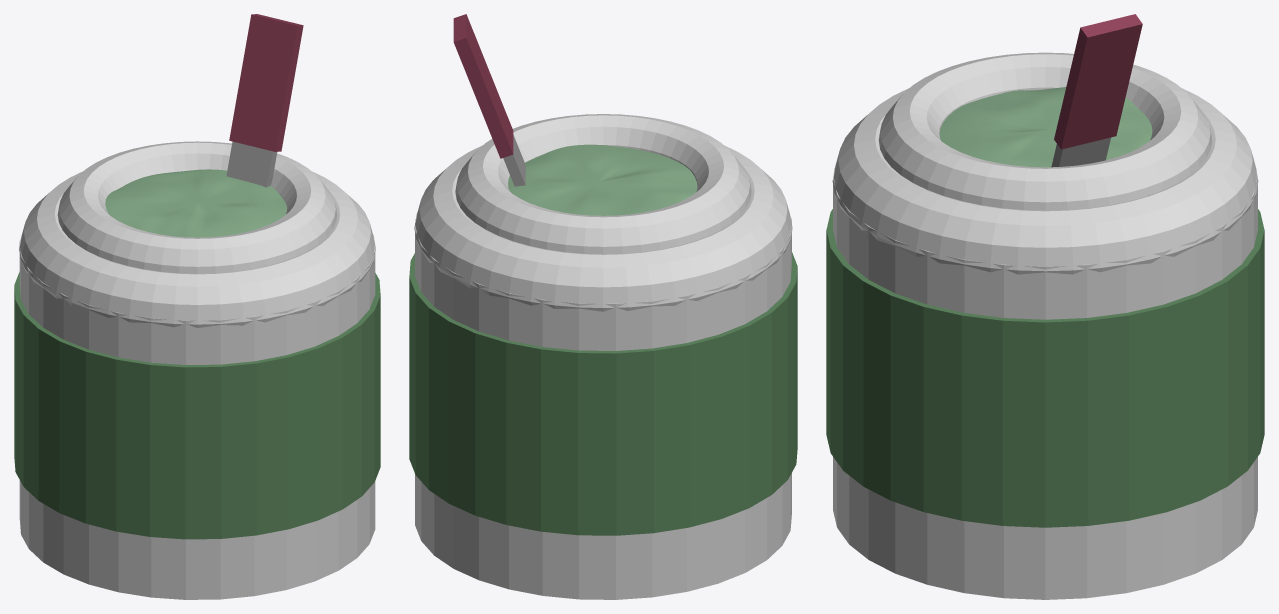
File: kayabottle1.fbx
3 views of the same model, side by side, from view 1: azimuth 30°, elevation 25°; view 2: azimuth 150°, elevation 25°; view 3: azimuth 270°, elevation 25° (orthographic). The views are drawn at different scales.
Parts seen in each view (by area): view 1: Cylinder, Cylinder.001, Sphere.001, Cube.008, Cube.007; view 2: Cylinder, Cylinder.001, Sphere.001, Cube.008, Cube.007; view 3: Cylinder, Cylinder.001, Sphere.001, Cube.008, Cube.007.
Part boxes in pixels (left/top/right/bottom): Cylinder: left=19, top=141, right=375, bottom=599; Cylinder.001: left=14, top=272, right=380, bottom=539; Sphere.001: left=105, top=169, right=287, bottom=237; Cube.008: left=229, top=14, right=303, bottom=151; Cube.007: left=226, top=141, right=277, bottom=187; Cylinder: left=414, top=114, right=792, bottom=599; Cylinder.001: left=409, top=252, right=797, bottom=535; Sphere.001: left=508, top=144, right=697, bottom=215; Cube.008: left=453, top=14, right=513, bottom=158; Cube.007: left=503, top=135, right=525, bottom=186; Cylinder: left=832, top=52, right=1258, bottom=599; Cylinder.001: left=826, top=209, right=1264, bottom=527; Sphere.001: left=939, top=87, right=1152, bottom=195; Cube.008: left=1054, top=14, right=1142, bottom=149; Cube.007: left=1051, top=137, right=1110, bottom=167.
Bounding box in the file's own units: 142 × 197 × 142.
